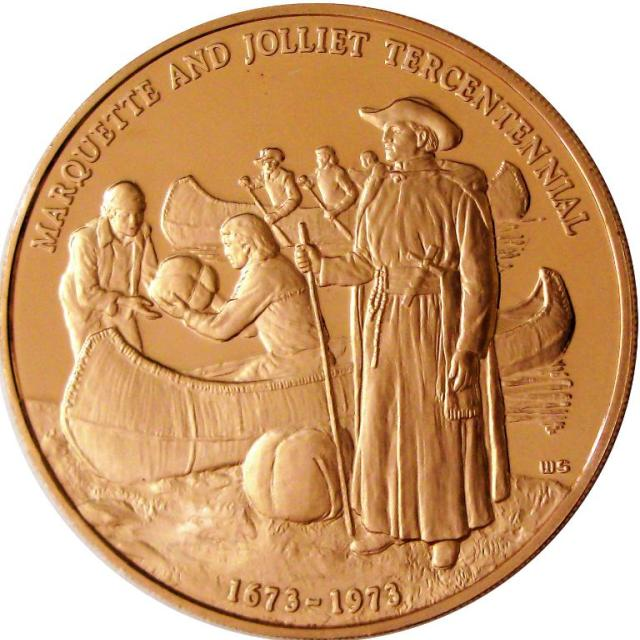Coin: (0, 3, 637, 640)
